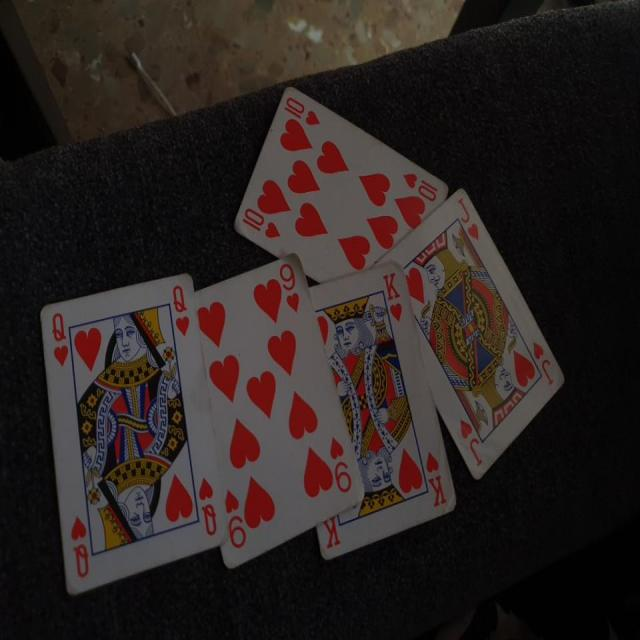10 Hearts: (232, 73, 454, 278)
9 Hearts: (192, 245, 365, 578)
J Hearts: (376, 182, 570, 481)
K Hearts: (301, 254, 457, 566)
Q Hearts: (39, 271, 224, 606)
